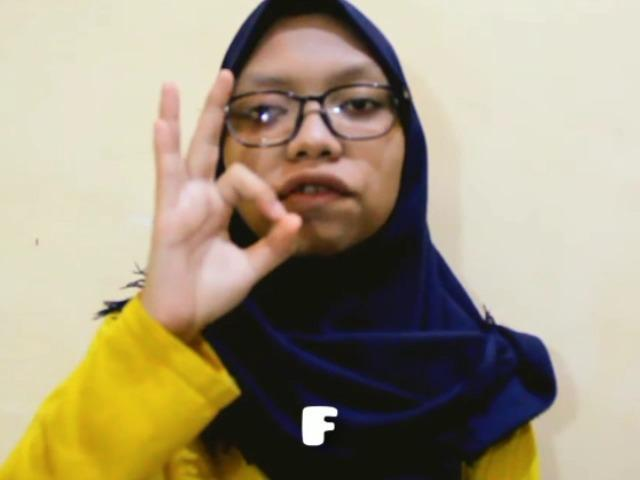F: (144, 68, 302, 320)
